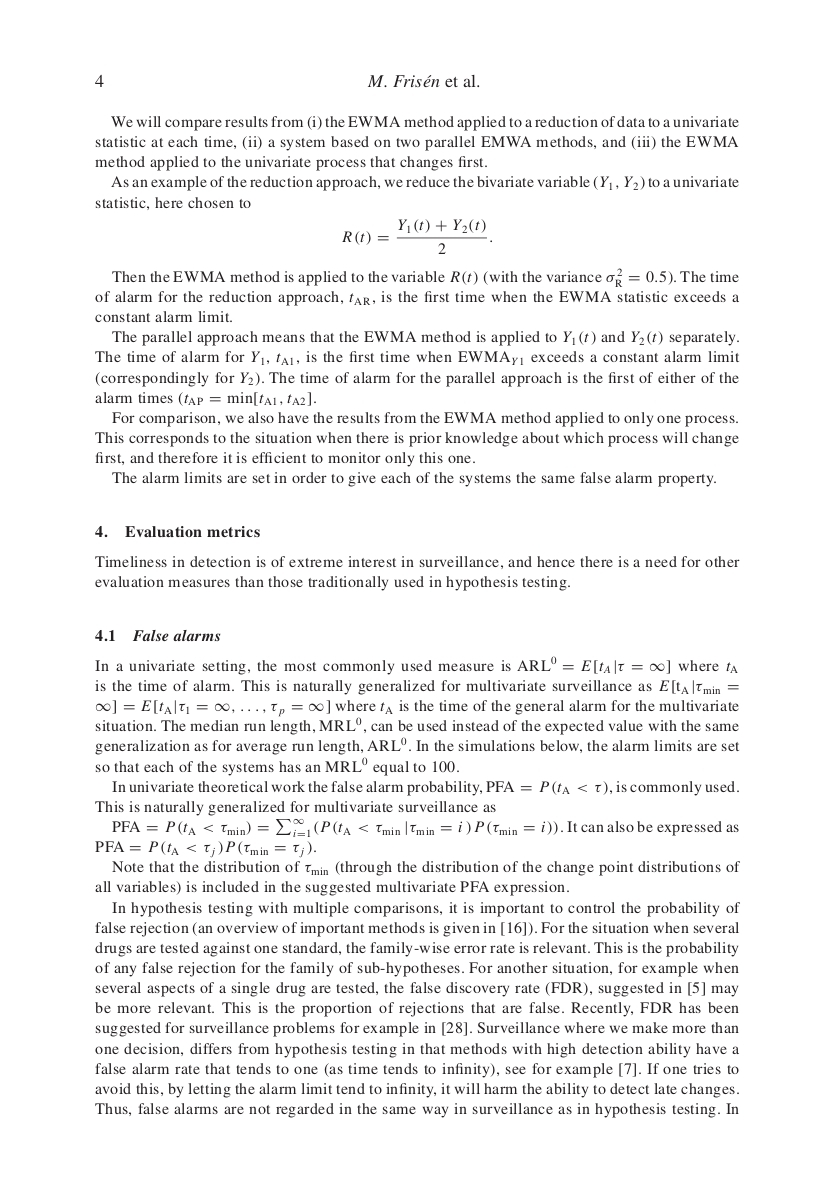formula: (342, 218, 491, 254)
